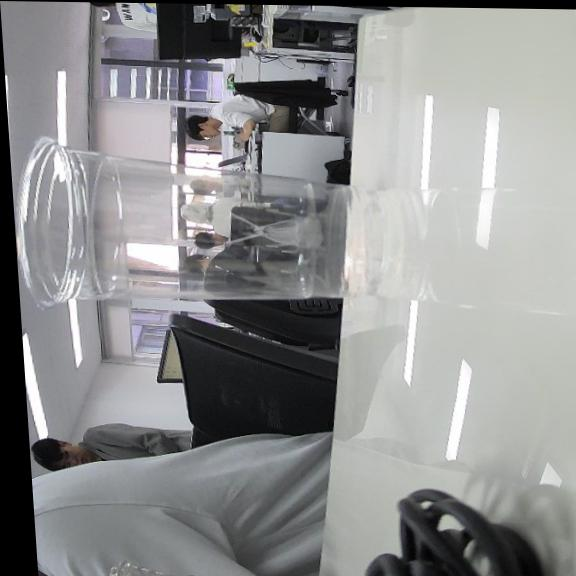Plastik: (17, 137, 388, 306)
